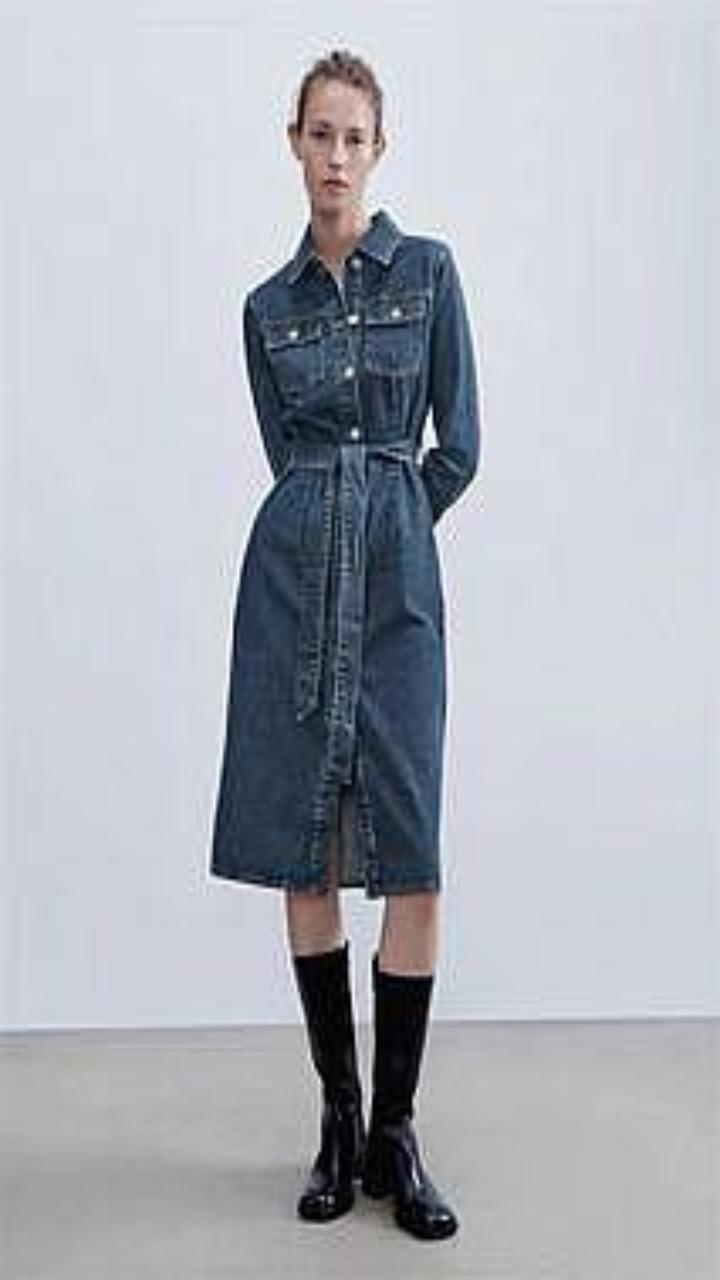Coat: (211, 208, 479, 896)
